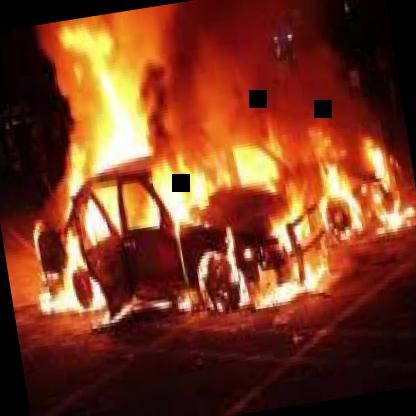fire: (0, 0, 416, 324)
